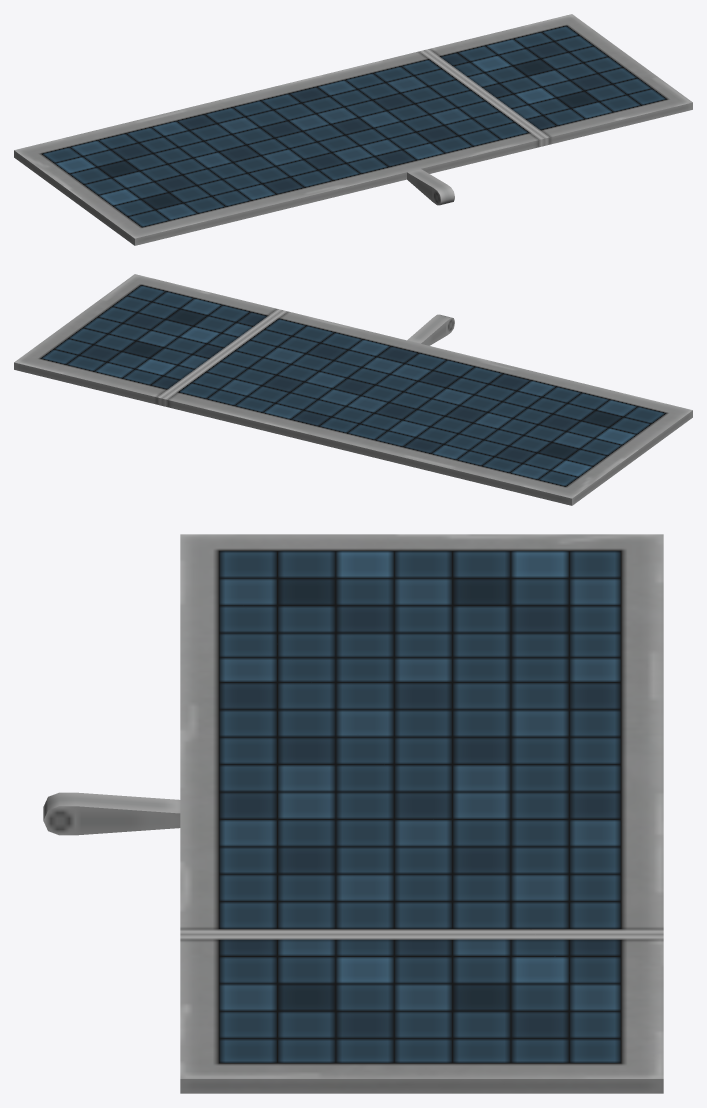
File: octans_solar_srf_2_panel_1_centre.obj
The picture shows the model from 3 angles, top to bottom: view 1: azimuth 30°, elevation 25°; view 2: azimuth 150°, elevation 25°; view 3: azimuth 270°, elevation 25°; orthographic projection. The views are drawn at different scales.
Visible parts, largest first — view 1: mesh; view 2: mesh; view 3: mesh.
Part boxes in pixels (x1=…): mesh: x1=14, y1=14, x2=692, y2=245; mesh: x1=14, y1=274, x2=692, y2=505; mesh: x1=43, y1=534, x2=663, y2=1093.
Bounding box in the file's own units: 1 × 0.025 × 0.4813.
1 material, 1 textured.
